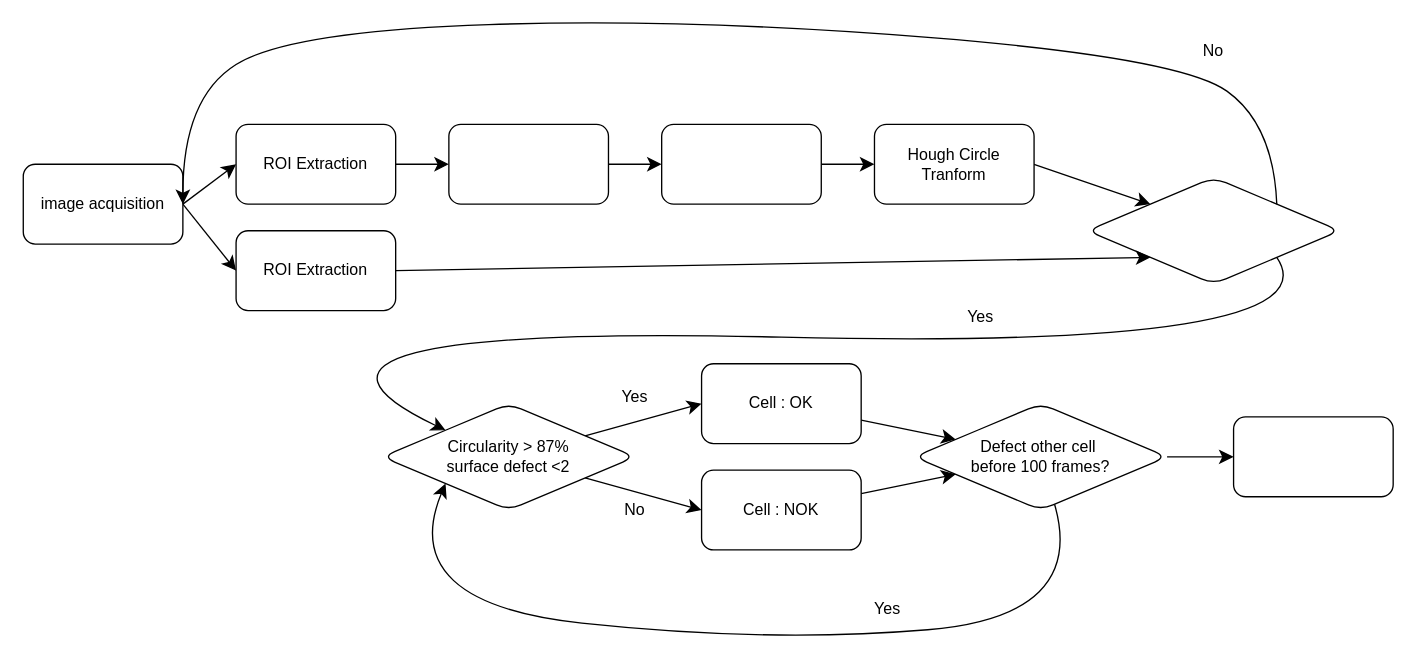
The diagram is 1416 pixels wide and 660 high, and some of its shapes have lost their labels. Each missing label, with the centre of its shape:
2nd Cell: NONE: pixel 1312 456
Gaussian Blur: pixel 740 163
Grayscale: pixel 528 163
Is the cell in the center?: pixel 1213 230
